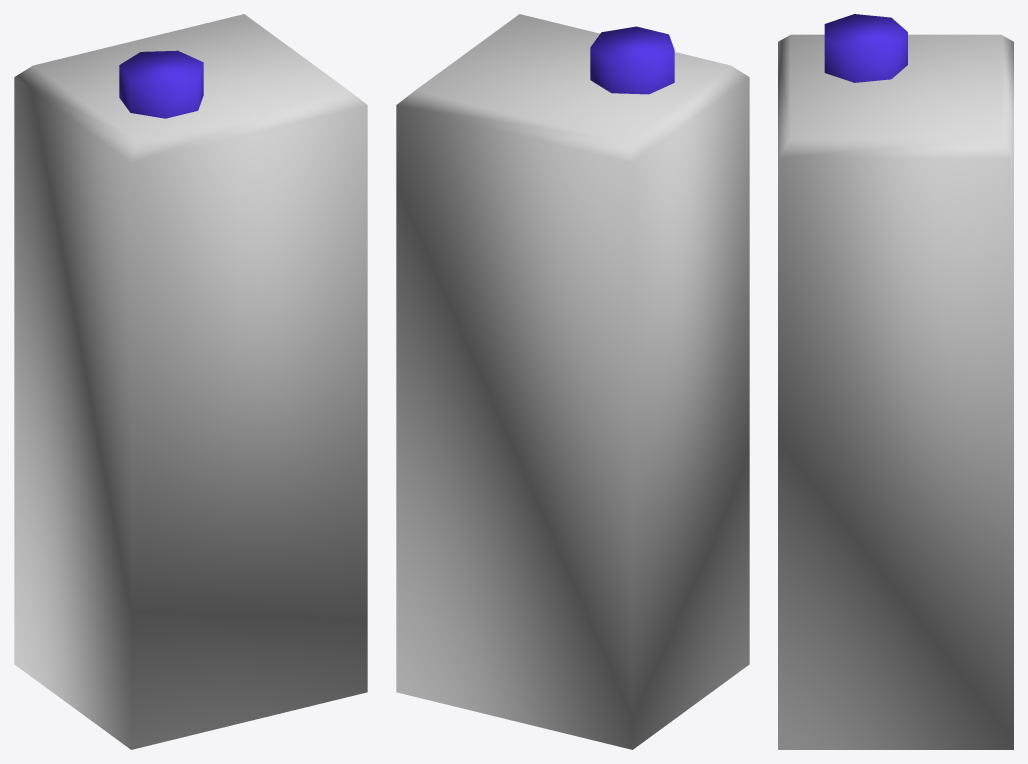
Rendered from succo_cocco.fbx.
3 views of the same model, side by side, from view 1: azimuth 30°, elevation 25°; view 2: azimuth 150°, elevation 25°; view 3: azimuth 270°, elevation 25° (orthographic).
Visible parts, largest first — view 1: cocco; view 2: cocco; view 3: cocco.
Part boxes in pixels (x1,y1,x2,y2): cocco: (14,14,367,749); cocco: (396,14,749,749); cocco: (778,14,1013,749).
Bounding box in the file's own units: 82.46 × 211 × 70.7.
